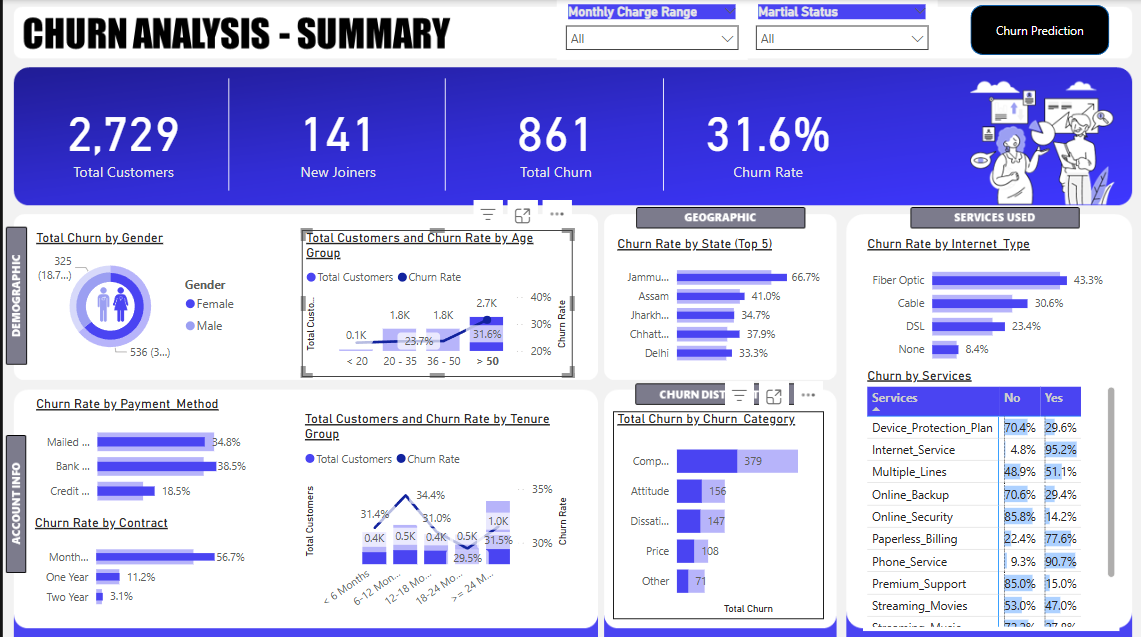

This screenshot's page, from the dashboard's own definition file:
{"tool":"powerbi","page":{"name":"Summary","canvas":[1280,720],"ordinal":0},"visuals":[{"type":"image","box":[94.7,311.5,59,59],"z":0},{"type":"card","fields":{"Values":["tbl_measures.Total Customers"]},"box":[17.8,76.8,234.6,153.7],"z":1000},{"type":"card","fields":{"Values":["tbl_measures.Total Churn"]},"box":[502.2,76.8,237.4,153.7],"z":2000},{"type":"card","fields":{"Values":["tbl_measures.New Joiners"]},"box":[263.5,76.8,225,153.7],"z":3000},{"type":"card","fields":{"Values":["tbl_measures.Churn Rate"]},"box":[752,76.8,214.1,153.7],"z":4000},{"type":"donutChart","fields":{"Category":["prod_Churn.Gender"],"Y":["tbl_measures.Total Churn"]},"box":[32.9,258,242.9,155.1],"z":5000},{"type":"lineStackedColumnComboChart","fields":{"Category":["mapping_AgeGrp.Age Group "],"Y":["tbl_measures.Total Customers"],"Y2":["tbl_measures.Churn Rate"]},"box":[336.2,258,303.3,166],"z":6000},{"type":"clusteredBarChart","fields":{"Category":["prod_Churn.Payment_Method"],"Y":["tbl_measures.Churn Rate"]},"box":[32.9,444.6,245.6,134.5],"z":7000},{"type":"clusteredBarChart","fields":{"Category":["prod_Churn.Contract"],"Y":["tbl_measures.Churn Rate"]},"box":[30.2,579.1,245.6,115.3],"z":8000},{"type":"lineStackedColumnComboChart","fields":{"Category":["mapping_TenureGrp.Tenure Group "],"Y":["tbl_measures.Total Customers"],"Y2":["tbl_measures.Churn Rate"]},"box":[333.4,462.4,306,231.9],"z":9000},{"type":"clusteredBarChart","title":"Churn Rate by State (Top 5) ","fields":{"Category":["prod_Churn.State"],"Y":["tbl_measures.Churn Rate"]},"box":[684.7,264.8,237.4,153.7],"z":10000},{"type":"clusteredBarChart","fields":{"Category":["prod_Churn.Churn_Category"],"Y":["tbl_measures.Total Churn"]},"box":[684.7,462.4,237.4,233.3],"z":11000},{"type":"clusteredBarChart","fields":{"Category":["prod_Churn.Internet_Type"],"Y":["tbl_measures.Churn Rate"]},"box":[966,264.8,277.2,153.7],"z":12000},{"type":"pivotTable","title":"Churn by Services","fields":{"Rows":["prod_Services.Services"],"Columns":["prod_Services.Status"],"Values":["Sum(prod_Services.Churn_Status)"]},"box":[966,413,288.2,296.4],"z":13000},{"type":"slicer","fields":{"Values":["prod_Churn.Monthly Charge Range tom"]},"box":[621.6,0,214.1,67.2],"z":14000},{"type":"slicer","fields":{"Values":["prod_Churn.Married"]},"box":[835.7,0,214.1,57.6],"z":15000},{"type":"shape","box":[1086.6,5.6,155.8,56.2],"z":15001}]}

Visuals, with their boxes in screenshot pixels (x1, y1, x2, y2), scaled from the page's 1280x720 canvas onto the 1141x637 screenshot:
image: x1=84, y1=276, x2=137, y2=328
card - tbl_measures.Total Customers: x1=16, y1=68, x2=225, y2=204
card - tbl_measures.Total Churn: x1=448, y1=68, x2=659, y2=204
card - tbl_measures.New Joiners: x1=235, y1=68, x2=435, y2=204
card - tbl_measures.Churn Rate: x1=670, y1=68, x2=861, y2=204
donutChart - prod_Churn.Gender x tbl_measures.Total Churn: x1=29, y1=228, x2=246, y2=365
lineStackedColumnComboChart - mapping_AgeGrp.Age Group  x tbl_measures.Total Customers: x1=300, y1=228, x2=570, y2=375
clusteredBarChart - prod_Churn.Payment_Method x tbl_measures.Churn Rate: x1=29, y1=393, x2=248, y2=512
clusteredBarChart - prod_Churn.Contract x tbl_measures.Churn Rate: x1=27, y1=512, x2=246, y2=614
lineStackedColumnComboChart - mapping_TenureGrp.Tenure Group  x tbl_measures.Total Customers: x1=297, y1=409, x2=570, y2=614
"Churn Rate by State (Top 5) " clusteredBarChart: x1=610, y1=234, x2=822, y2=370
clusteredBarChart - prod_Churn.Churn_Category x tbl_measures.Total Churn: x1=610, y1=409, x2=822, y2=616
clusteredBarChart - prod_Churn.Internet_Type x tbl_measures.Churn Rate: x1=861, y1=234, x2=1108, y2=370
"Churn by Services" pivotTable: x1=861, y1=365, x2=1118, y2=628
slicer - prod_Churn.Monthly Charge Range tom: x1=554, y1=0, x2=745, y2=59
slicer - prod_Churn.Married: x1=745, y1=0, x2=936, y2=51
shape: x1=969, y1=5, x2=1107, y2=55
